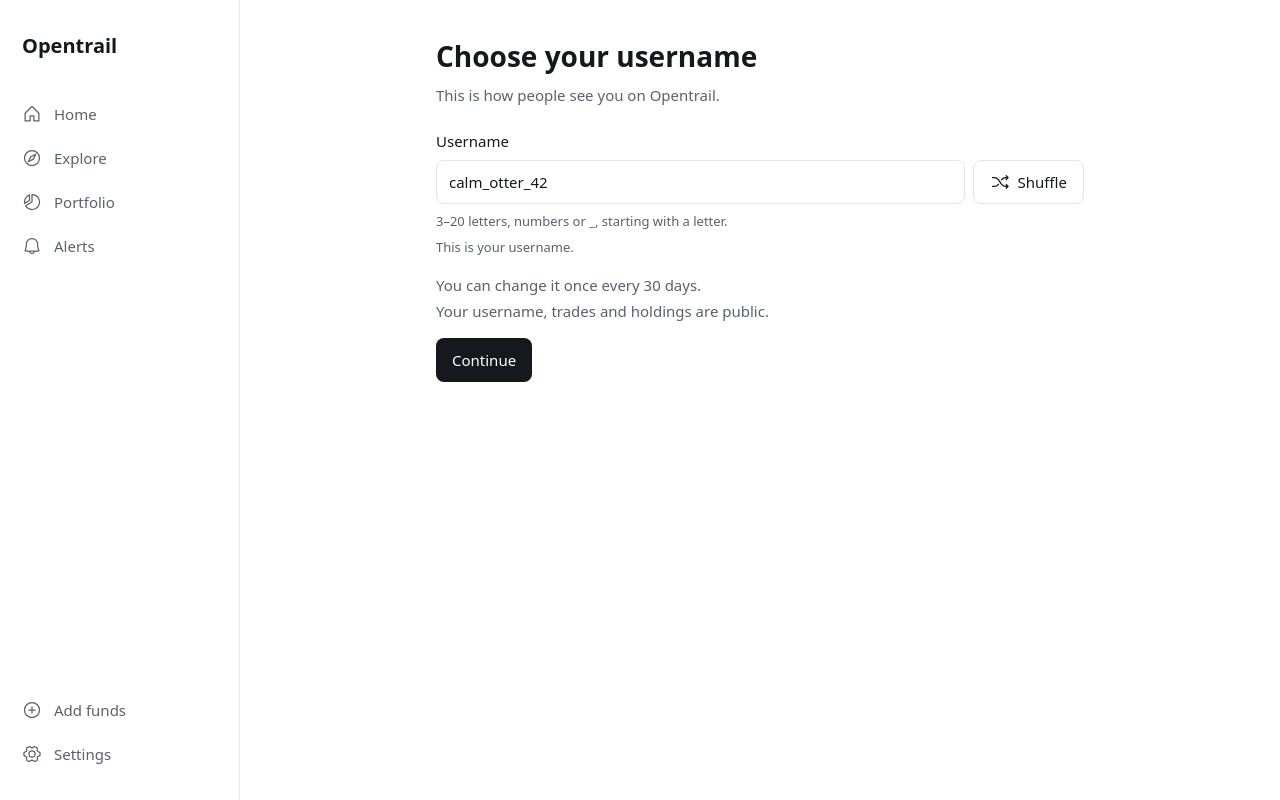
onboarding › says so when Shuffle fails
Expected: the heading "Choose your username" is shown, [436,40,757,72]
Click the button "Shuffle": (1028, 182) [973,160,1084,204]
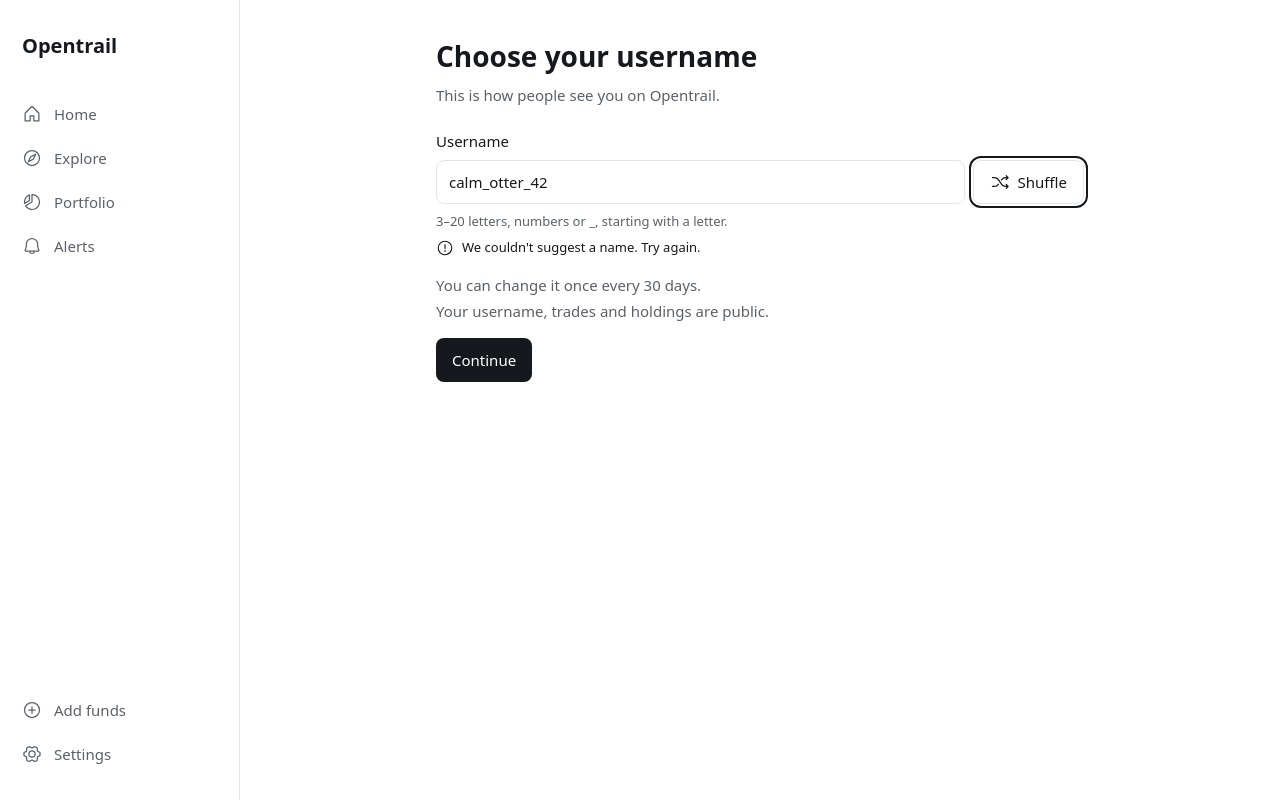
Expected: the text "We couldn't suggest a name. Try again." is shown, [436,238,701,257]
